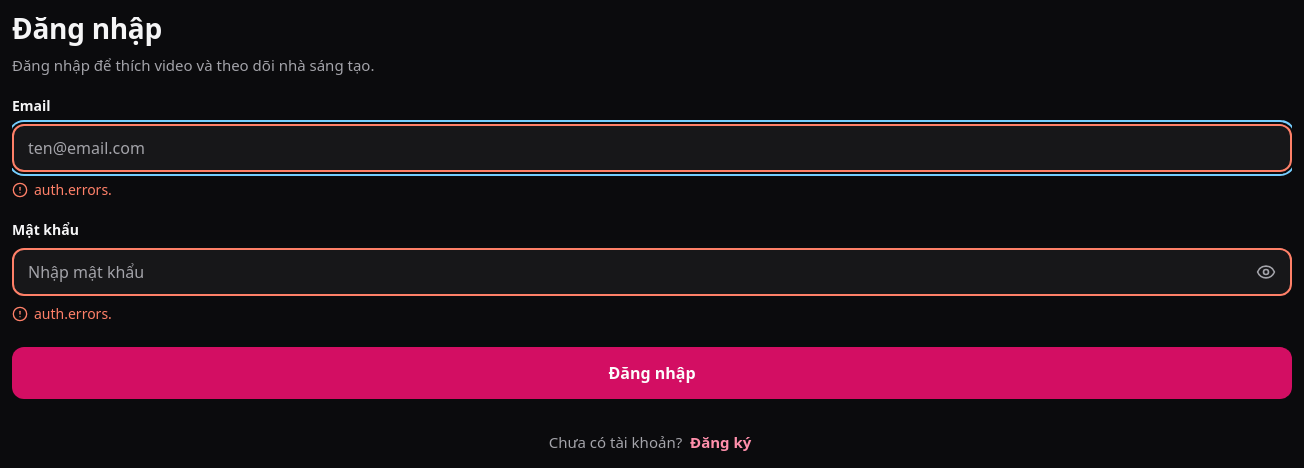
Test case: AuthForm › vi: a field error of the server shows on the email field and takes the focus
The width and height of the screenshot is (1304, 468).
Step 1. Type "minhanh@gmail.com" into the field labelled "Email" → [652, 148], box x1=14 y1=126 x2=1290 y2=170
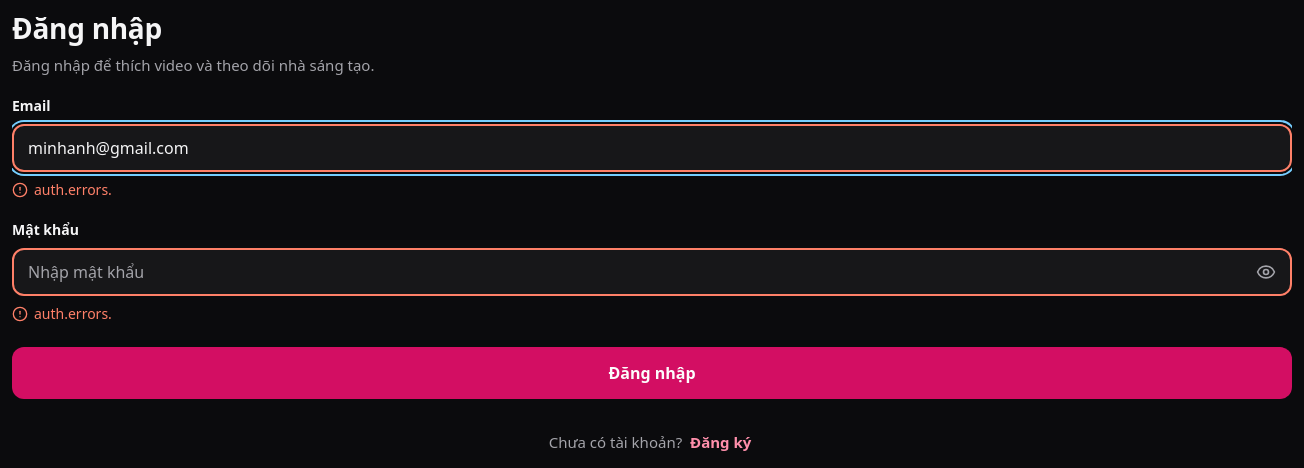
Step 2. Type "12345678" into the password field labelled "Mật khẩu" → [629, 272], box x1=14 y1=250 x2=1244 y2=294
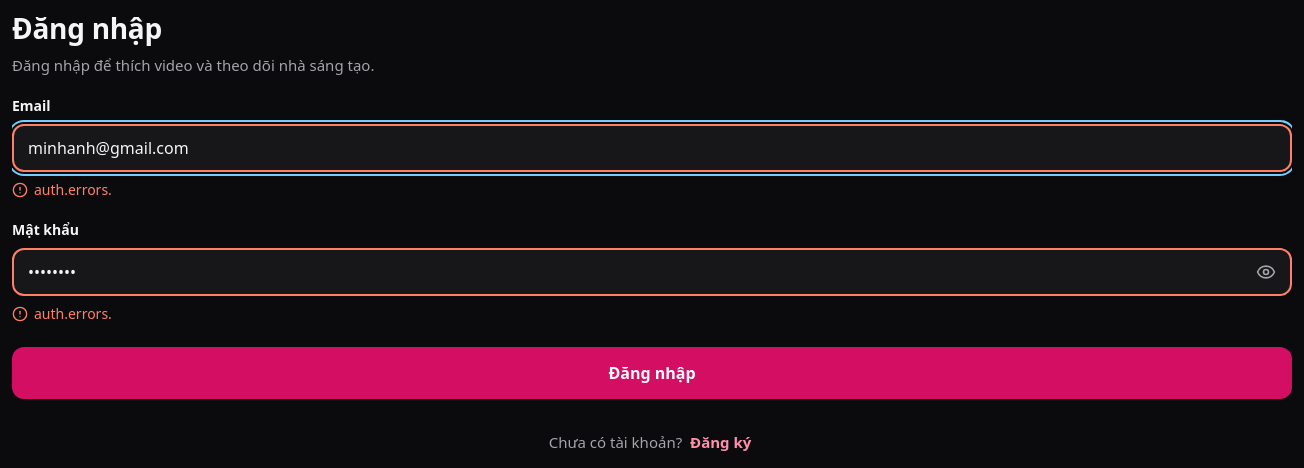
Step 3. Click the button "Đăng nhập" → [652, 373], box x1=12 y1=347 x2=1292 y2=399
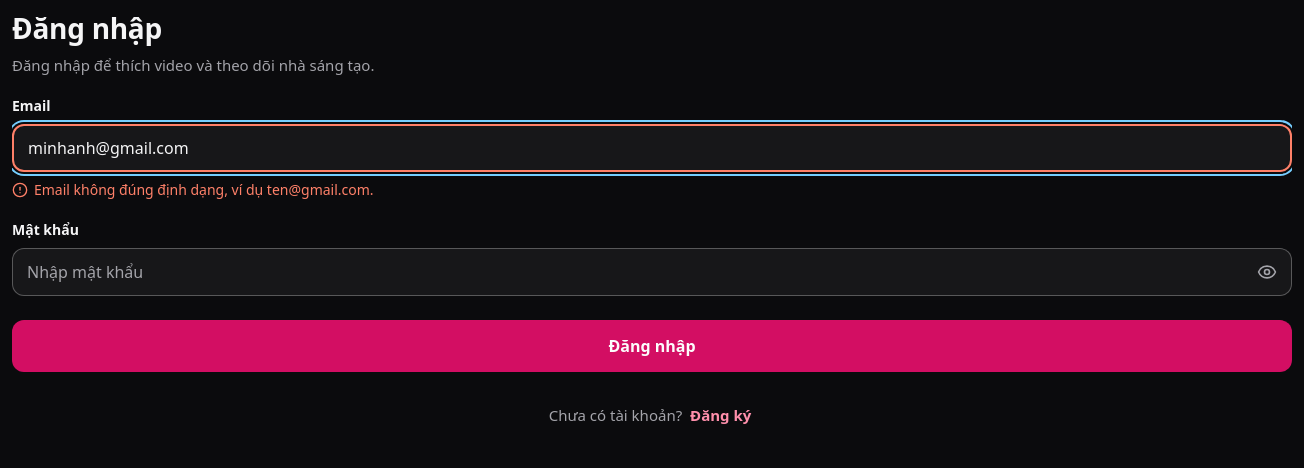
Expected: the text "Email không đúng định dạng, ví dụ ten@gmail.com." is shown, x1=34 y1=180 x2=374 y2=200
